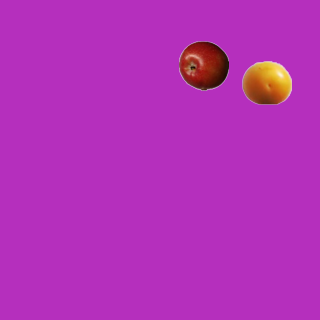Apple Braeburn: (178, 40, 228, 90)
Cherry Wax Yellow: (241, 57, 291, 107)
